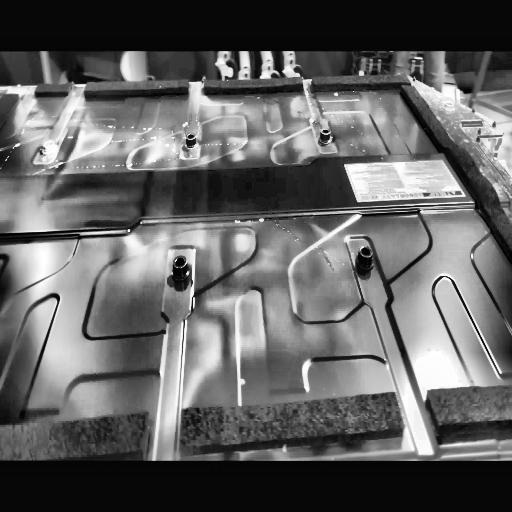b_casing: (0, 78, 512, 462)
